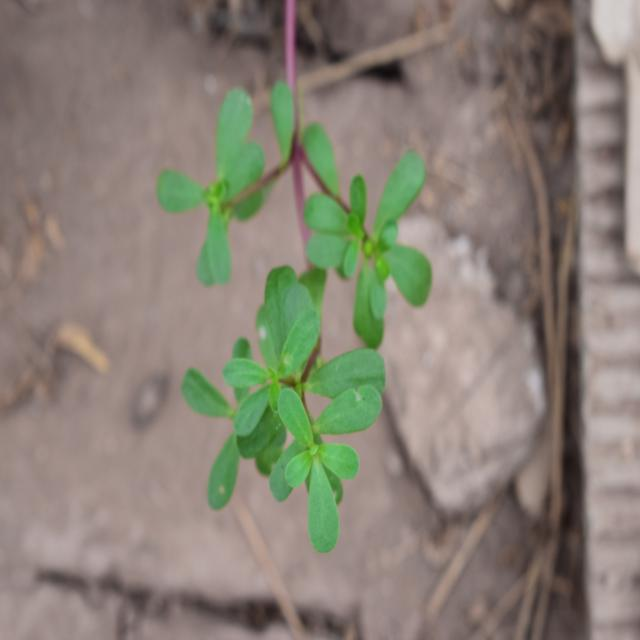purslane: (141, 85, 435, 537)
